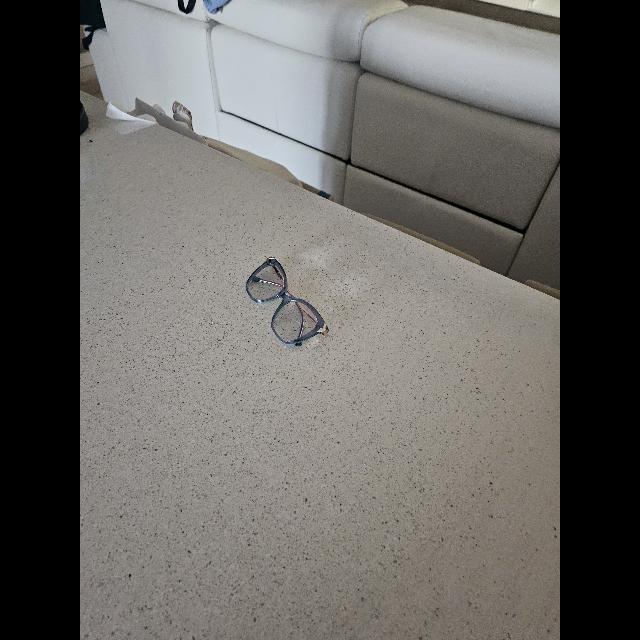glasses: (245, 256, 328, 346)
